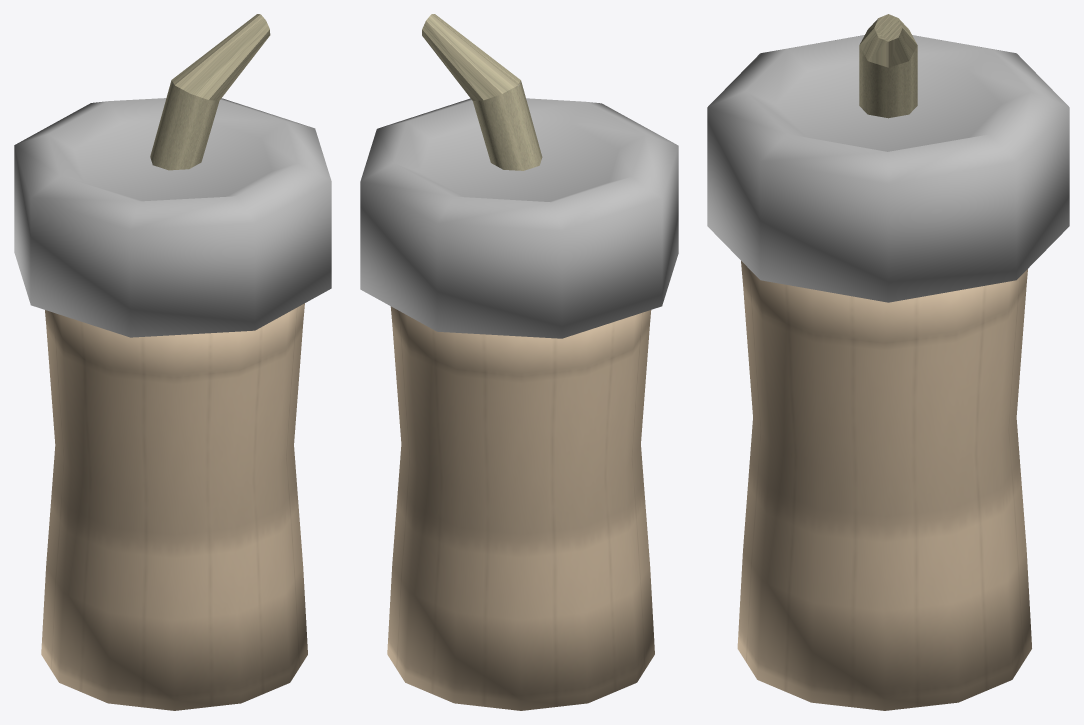
The model's file is StunBomb.FBX.
The picture shows the model from 3 angles, left to right: view 1: azimuth 30°, elevation 25°; view 2: azimuth 150°, elevation 25°; view 3: azimuth 270°, elevation 25°; orthographic projection. The views are drawn at different scales.
Parts seen in each view (by area): view 1: Bomb; view 2: Bomb; view 3: Bomb.
Boxes of the visible parts, <box> form: Bomb: <box>14,14,331,710</box>; Bomb: <box>360,14,678,710</box>; Bomb: <box>707,14,1069,710</box>.
Bounding box in the file's own units: 17.03 × 17.03 × 37.22.
1 material, 1 textured.
